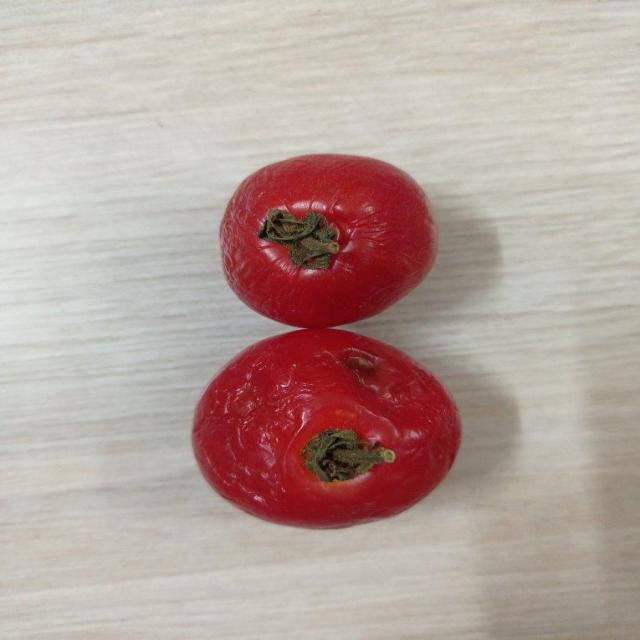Rotten: (191, 327, 465, 531), (220, 154, 435, 328)
